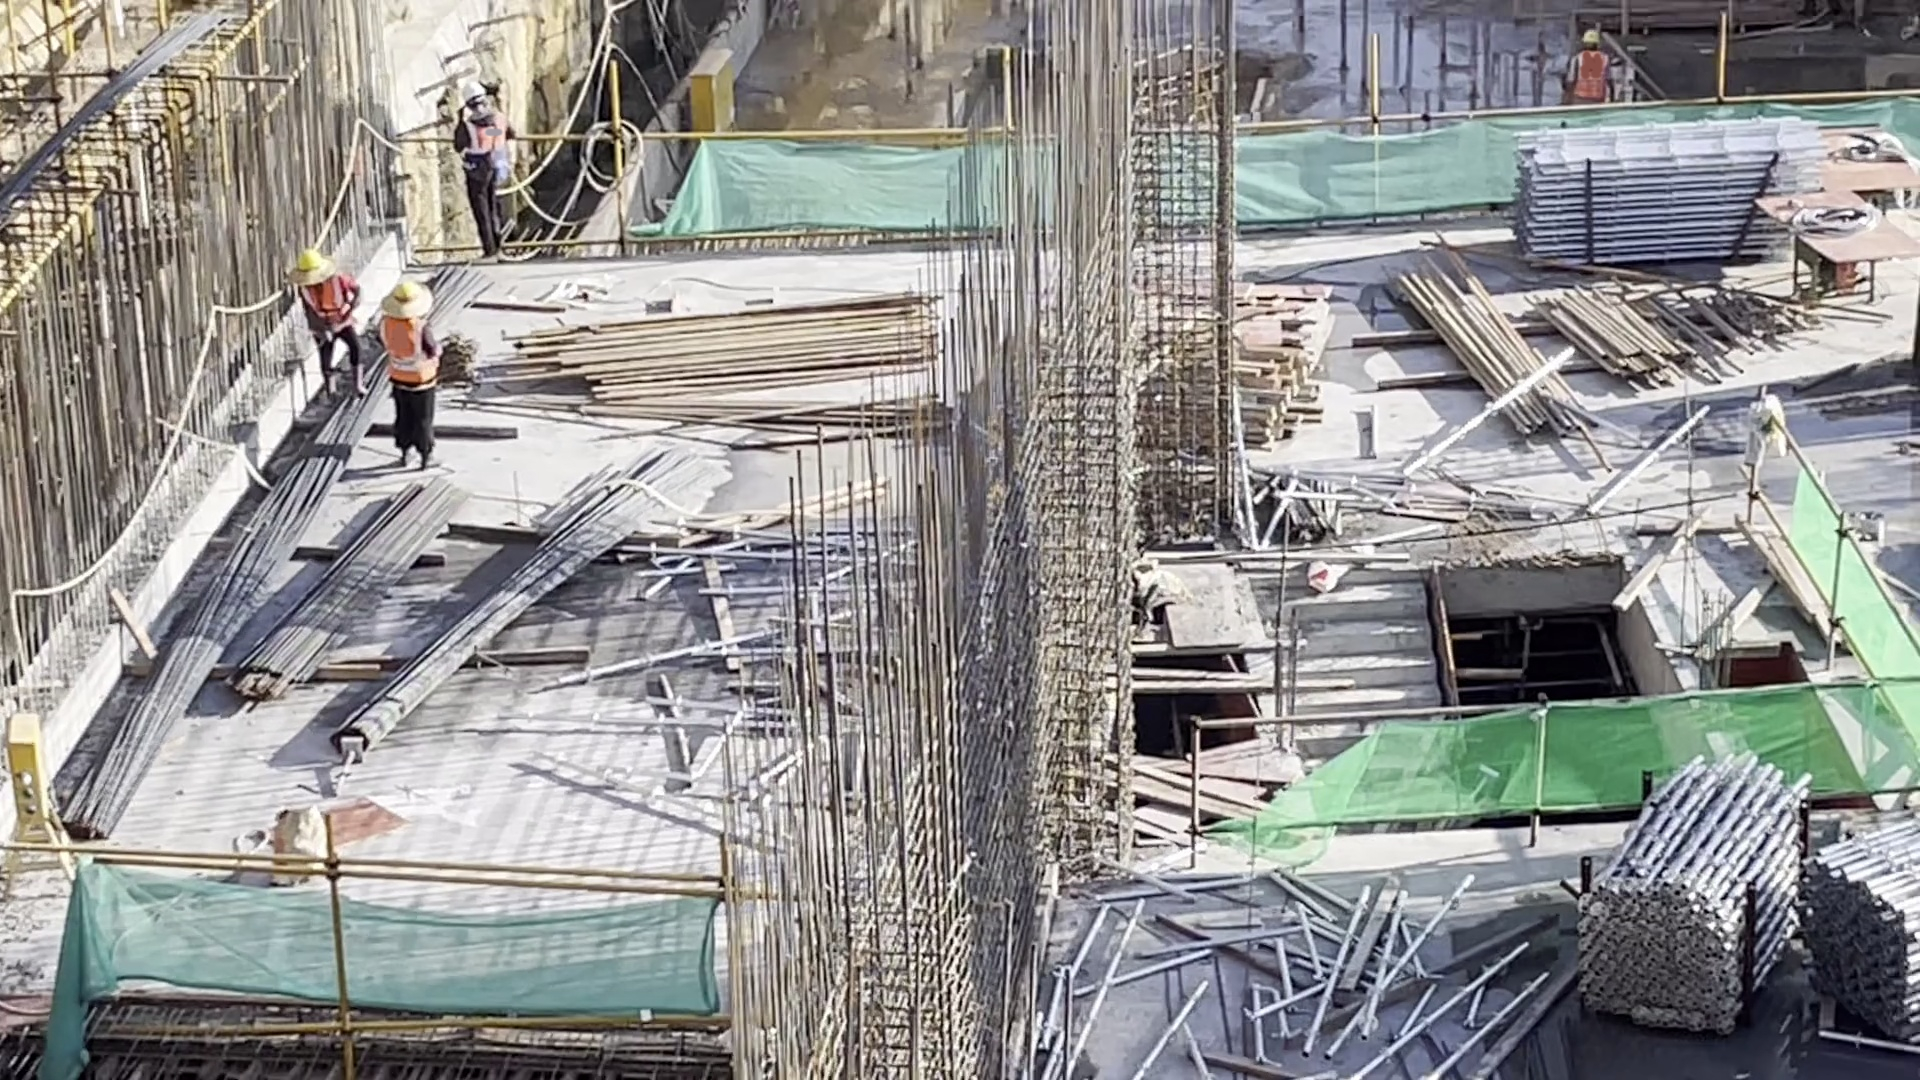cutter: (1779, 196, 1891, 310), (1836, 129, 1900, 209)
ebox: (1, 719, 68, 895), (686, 51, 751, 127)
helmet: (378, 285, 425, 319), (288, 257, 327, 284), (458, 76, 489, 104), (1580, 31, 1601, 48)
person: (282, 239, 377, 413), (366, 278, 442, 471), (449, 79, 523, 261), (1559, 28, 1614, 116)
rebar: (95, 397, 346, 829), (338, 461, 686, 754), (253, 491, 436, 695)
scaffold: (1567, 756, 1829, 1016), (1509, 127, 1833, 255), (1833, 821, 1920, 1032)
vest: (378, 325, 436, 394), (300, 281, 351, 326), (465, 117, 508, 160), (1572, 56, 1607, 102)
wood: (501, 294, 926, 378), (1164, 345, 1326, 447)
